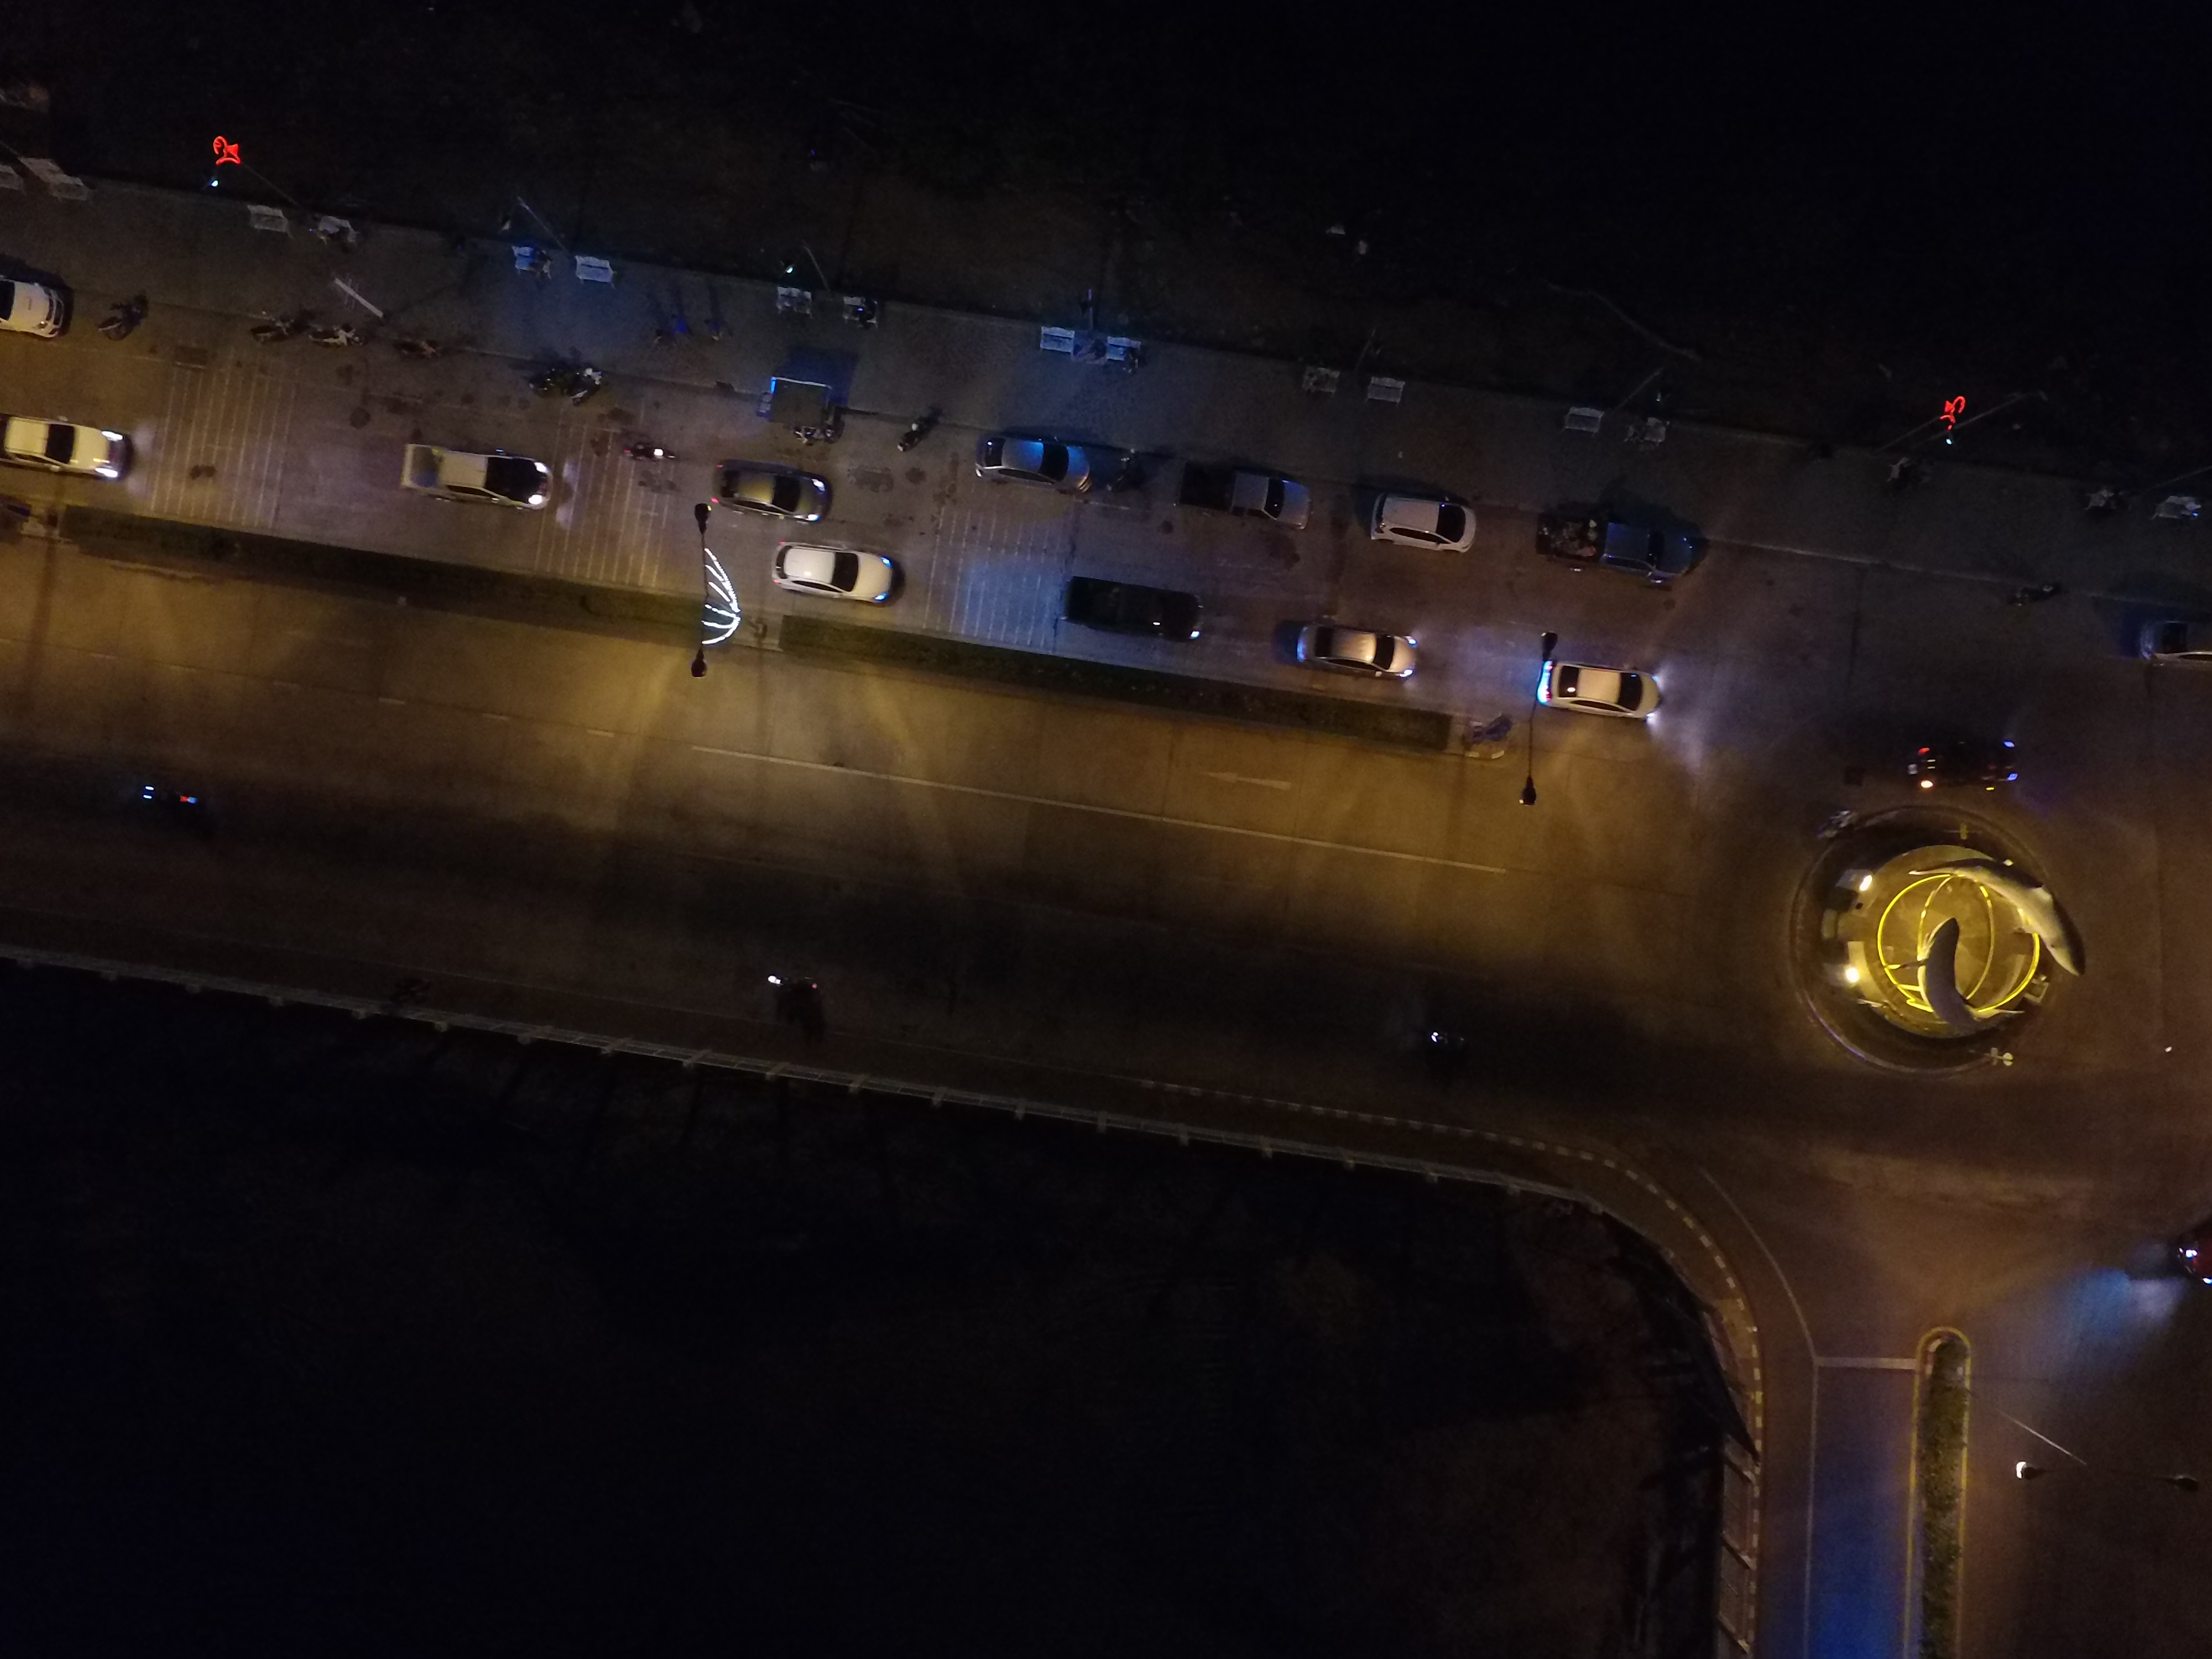car: (376, 422, 573, 526), (1860, 711, 2040, 807), (1527, 497, 1705, 592), (0, 399, 150, 495), (697, 437, 846, 533), (1052, 565, 1202, 660), (1343, 481, 1493, 577), (1533, 641, 1683, 737), (756, 532, 904, 627), (960, 420, 1108, 516), (1275, 599, 1423, 695), (1174, 444, 1324, 538)
